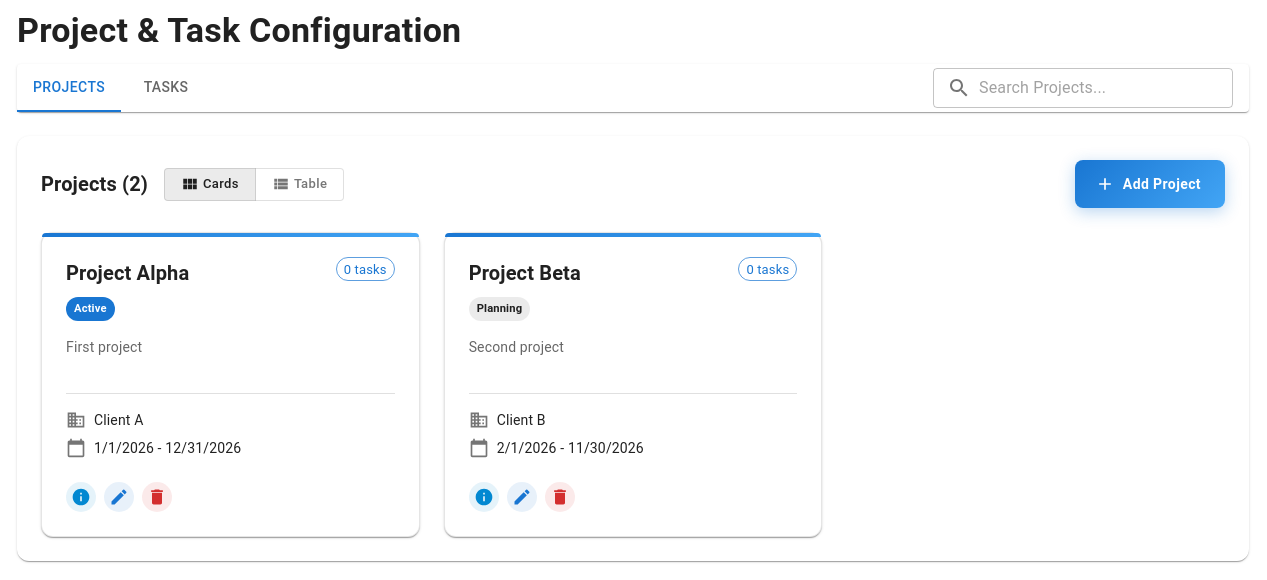
Test: ProjectTaskConfiguration Component › should switch to Tasks tab and display tasks
Expected: the heading "Project Alpha" is shown, [66, 261, 189, 285]
Click the tab "Tasks": (166, 88) [121, 64, 211, 112]
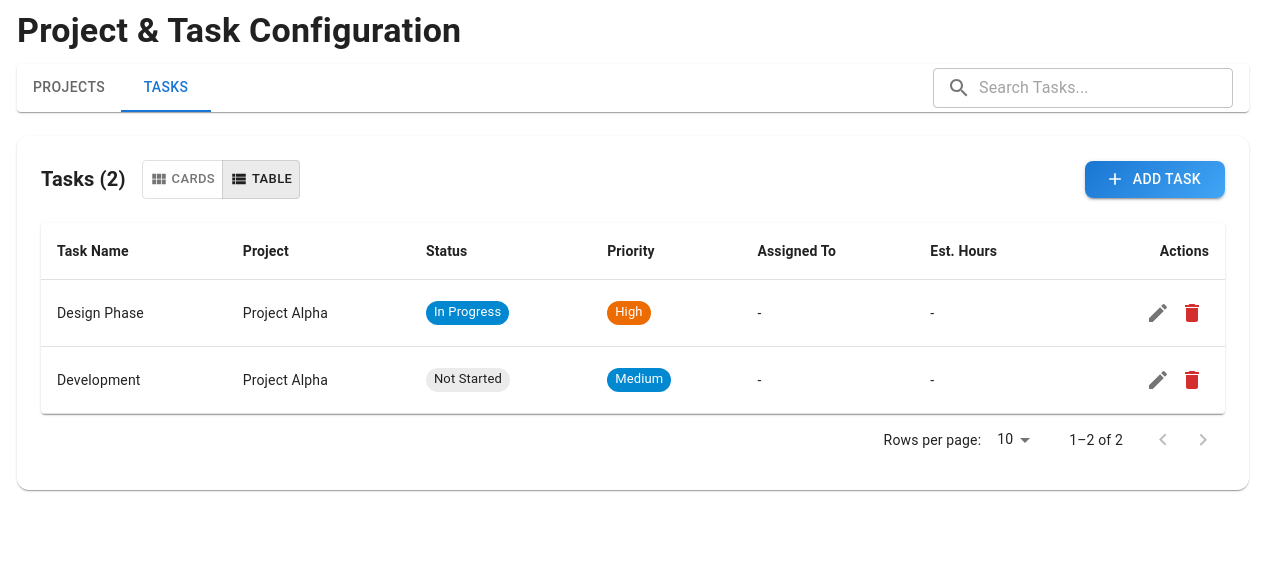
Result: the text "Design Phase" is shown at [41, 279, 227, 346]
Result: the text "Development" is shown at [41, 346, 227, 413]
